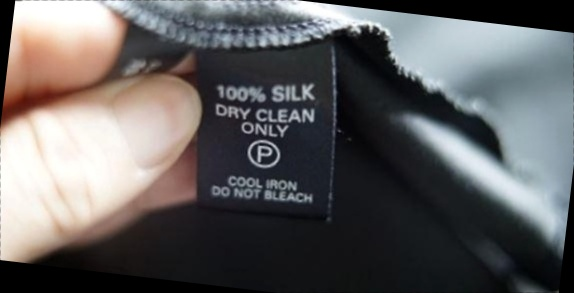dry_clean_any_solvent_except_trichloroethylene: (244, 134, 286, 172)
